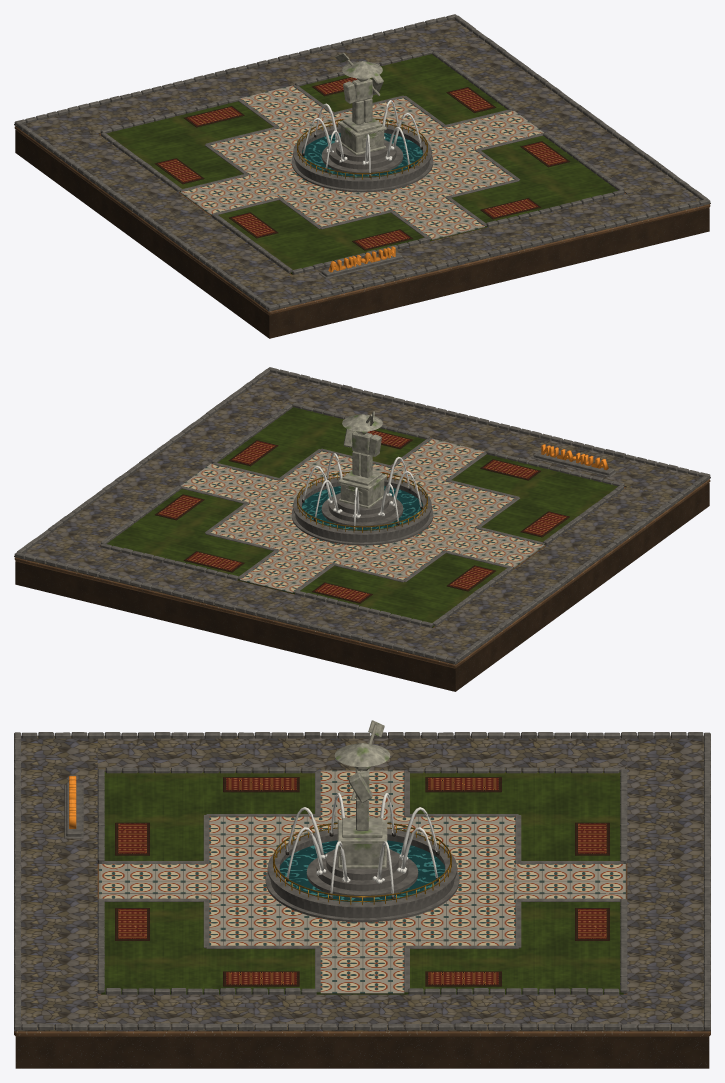
File: alun_alun_area.fbx
3 views of the same model, one above another, from view 1: azimuth 30°, elevation 25°; view 2: azimuth 150°, elevation 25°; view 3: azimuth 270°, elevation 25° (orthographic). The views are drawn at different scales.
Parts seen in each view (by area): view 1: AA_Cobble, AA_Lawn, AA_PlazaTegel, AA_BaseSoil, AA_Kerbs, AA_FountainBasin, AA_PanelBatik, AA_StatueFarmer, AA_BaseDirt, AA_PlazaEdge, AA_PanelFrames, AA_FountainWater (+4 smaller); view 2: AA_Cobble, AA_Lawn, AA_PlazaTegel, AA_BaseSoil, AA_Kerbs, AA_FountainBasin, AA_PanelBatik, AA_BaseDirt, AA_StatueFarmer, AA_PlazaEdge, AA_PanelFrames, AA_FountainWater (+4 smaller); view 3: AA_Cobble, AA_Lawn, AA_PlazaTegel, AA_Kerbs, AA_BaseSoil, AA_FountainBasin, AA_PanelBatik, AA_PlazaEdge, AA_StatueFarmer, AA_BaseDirt, AA_PanelFrames, AA_FountainJets (+3 smaller).
Part boxes in pixels (x1,y1,x2,y2): AA_Cobble: (14,19,710,311); AA_Lawn: (106,54,617,274); AA_PlazaTegel: (180,85,544,239); AA_BaseSoil: (15,129,709,338); AA_Kerbs: (14,14,710,310); AA_FountainBasin: (291,124,433,192); AA_PanelBatik: (158,77,566,248); AA_StatueFarmer: (335,52,386,155); AA_BaseDirt: (14,126,710,315); AA_PlazaEdge: (180,85,543,239); AA_PanelFrames: (154,77,570,250); AA_FountainWater: (302,133,422,177); AA_Cobble: (14,372,710,664); AA_Lawn: (107,407,617,627); AA_PlazaTegel: (180,438,544,592); AA_BaseSoil: (15,483,709,691); AA_Kerbs: (14,367,710,663); AA_FountainBasin: (291,477,433,545); AA_PanelBatik: (158,430,566,601); AA_BaseDirt: (14,479,710,668); AA_StatueFarmer: (338,411,386,508); AA_PlazaEdge: (181,438,544,592); AA_PanelFrames: (155,430,569,603); AA_FountainWater: (302,486,422,530); AA_Cobble: (14,735,710,1031); AA_Lawn: (101,772,623,994); AA_PlazaTegel: (99,770,625,993); AA_Kerbs: (14,732,710,1030); AA_BaseSoil: (15,1036,709,1068); AA_FountainBasin: (265,829,459,922); AA_PanelBatik: (118,778,606,984); AA_PlazaEdge: (101,770,623,992); AA_StatueFarmer: (334,720,390,868); AA_BaseDirt: (14,863,710,1036); AA_PanelFrames: (115,777,609,986); AA_FountainJets: (285,793,439,899).
Size of the model in its own units: 100 by 30.36 by 100.
11 materials, 11 textured.
